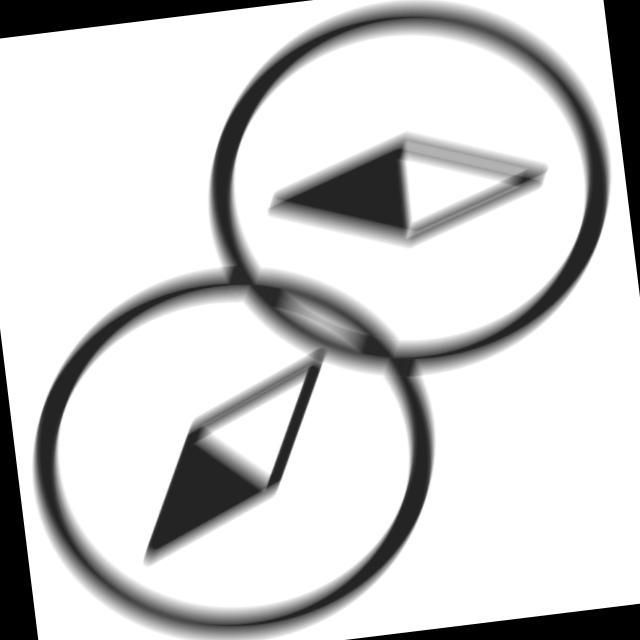compass: (5, 227, 476, 640), (175, 1, 637, 400)
